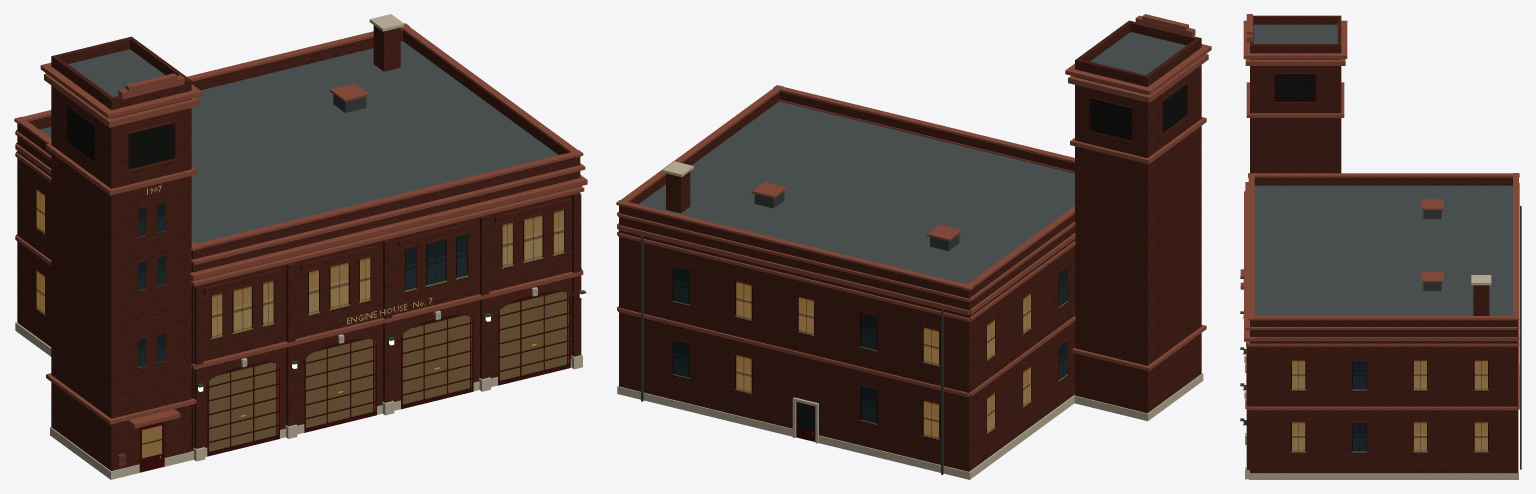
The model's file is firehouse.glb.
3 views of the same model, side by side, from view 1: azimuth 30°, elevation 25°; view 2: azimuth 150°, elevation 25°; view 3: azimuth 270°, elevation 25° (orthographic). The views are drawn at different scales.
Visible parts, largest first — view 1: Main roof, Hose tower masonry, Engine house masonry, Engine bay doors, Main cornices, Upper sash windows, Roof parapets, Front brick piers, Parapet caps, Tower cornices, Tower crown, Tower louvers (+12 smaller); view 2: Engine house masonry, Main roof, Hose tower masonry, Roof parapets, Rear cornices, Rear sash windows, Parapet caps, Tower cornices, Stone foundation, Tower crown, Tower louvers, Return cornices (+10 smaller); view 3: Main roof, Engine house masonry, Hose tower masonry, Return cornices, Parapet caps, Roof parapets, Side sash windows, Tower cornices, Stone foundation, Tower crown, Tower roof, Tower louvers (+7 smaller).
Boxes of the visible parts, box(x1,y1,x2,y2) form: Main roof: box(39, 41, 558, 243); Hose tower masonry: box(51, 85, 191, 470); Engine house masonry: box(17, 136, 580, 450); Engine bay doors: box(207, 291, 570, 456); Main cornices: box(189, 164, 587, 369); Upper sash windows: box(211, 208, 564, 340); Roof parapets: box(17, 30, 580, 259); Front brick piers: box(194, 193, 581, 448); Parapet caps: box(14, 23, 583, 250); Tower cornices: box(40, 62, 202, 424); Tower crown: box(51, 36, 191, 110); Tower louvers: box(67, 104, 175, 171); Engine house masonry: box(619, 217, 1074, 471); Main roof: box(639, 101, 1074, 284); Hose tower masonry: box(1075, 65, 1201, 413); Roof parapets: box(619, 91, 1074, 302); Rear cornices: box(618, 213, 968, 397); Rear sash windows: box(672, 264, 940, 440); Parapet caps: box(616, 85, 1074, 290); Tower cornices: box(1065, 44, 1211, 371); Stone foundation: box(617, 385, 1074, 479); Tower crown: box(1075, 20, 1201, 86); Tower louvers: box(1089, 82, 1187, 142); Return cornices: box(617, 212, 1075, 396); Main roof: box(1254, 185, 1512, 315); Engine house masonry: box(1250, 330, 1517, 473); Hose tower masonry: box(1250, 59, 1341, 173); Return cornices: box(1250, 327, 1517, 410); Parapet caps: box(1248, 173, 1519, 320); Roof parapets: box(1250, 177, 1517, 330); Side sash windows: box(1291, 359, 1488, 452); Tower cornices: box(1243, 20, 1347, 117); Stone foundation: box(1249, 409, 1518, 479); Tower crown: box(1250, 15, 1341, 53); Tower roof: box(1253, 24, 1337, 43); Tower louvers: box(1274, 73, 1316, 102).
Size of the model in its own units: 34.65 by 26.88 by 23.09.
Materials: 11 (3 with a texture image).
